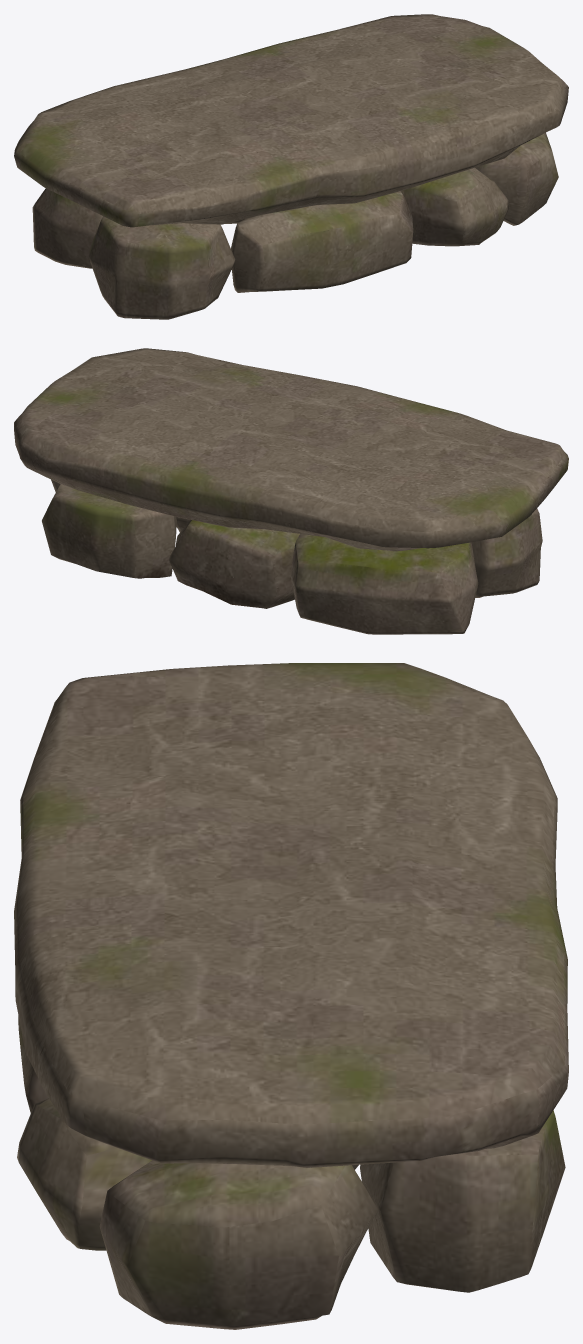
The model's file is altar_stone.glb.
3 views of the same model, one above another, from view 1: azimuth 30°, elevation 25°; view 2: azimuth 150°, elevation 25°; view 3: azimuth 270°, elevation 25° (orthographic). The views are drawn at different scales.
Visible parts, largest first — view 1: polySurface33_lambert4_0; view 2: polySurface33_lambert4_0; view 3: polySurface33_lambert4_0.
Part boxes in pixels (x1,y1,x2,y2): polySurface33_lambert4_0: (14,14,568,319); polySurface33_lambert4_0: (14,348,568,634); polySurface33_lambert4_0: (14,663,568,1329).
Size of the model in its own units: 295 by 81.4 by 152.
Materials: 1 (1 with a texture image).
